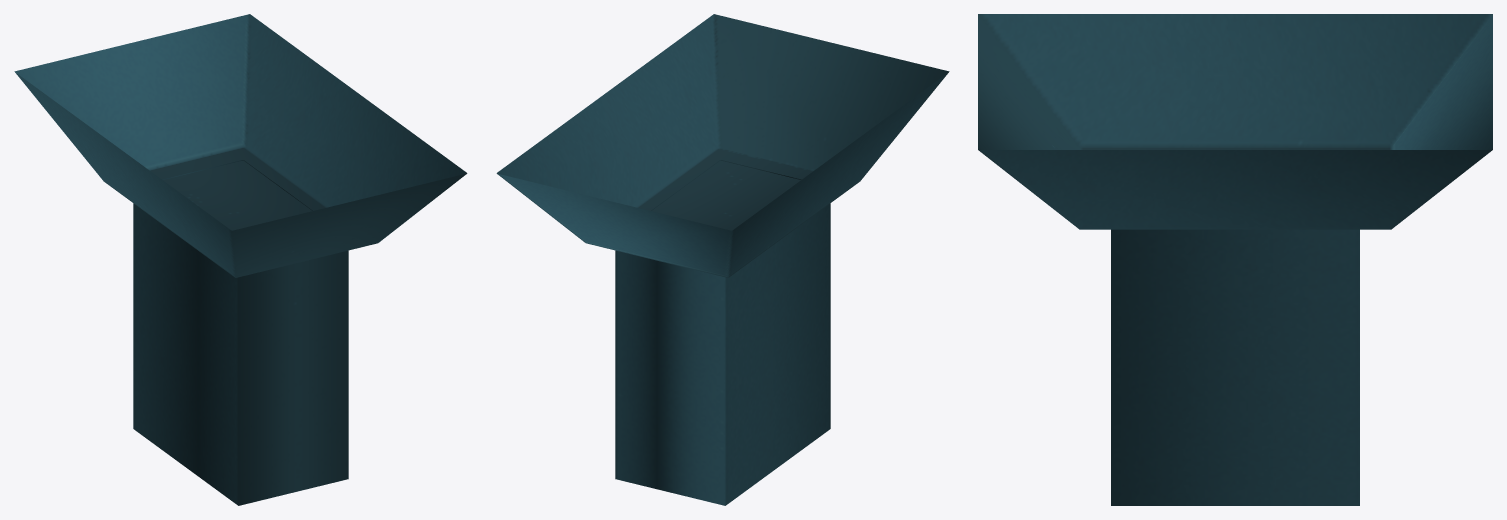
File: lu_qiaodun1.fbx
The picture shows the model from 3 angles, left to right: view 1: azimuth 30°, elevation 25°; view 2: azimuth 150°, elevation 25°; view 3: azimuth 270°, elevation 25°; orthographic projection. The views are drawn at different scales.
Visible parts, largest first — view 1: qiaodun1, qiaodun2; view 2: qiaodun1, qiaodun2; view 3: qiaodun1, qiaodun2.
Part boxes in pixels (x1=…): qiaodun1: x1=14, y1=14, x2=467, y2=277; qiaodun2: x1=133, y1=160, x2=348, y2=505; qiaodun1: x1=496, y1=14, x2=949, y2=277; qiaodun2: x1=615, y1=160, x2=830, y2=505; qiaodun1: x1=978, y1=14, x2=1492, y2=229; qiaodun2: x1=1111, y1=229, x2=1359, y2=505.
Size of the model in its own units: 2846 by 3827 by 4553.
